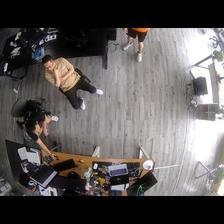normal: (40, 55, 105, 109), (26, 110, 63, 144), (119, 26, 147, 62)
